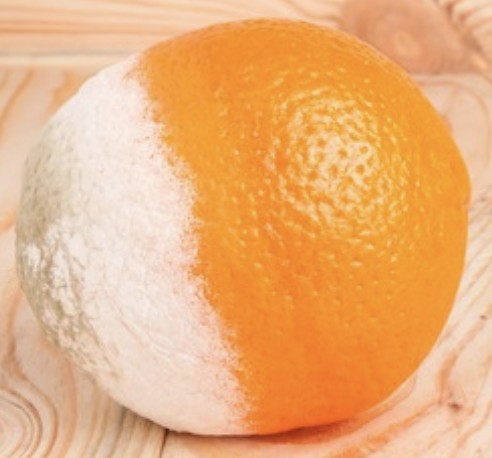rotten_orange: (19, 16, 469, 438)
